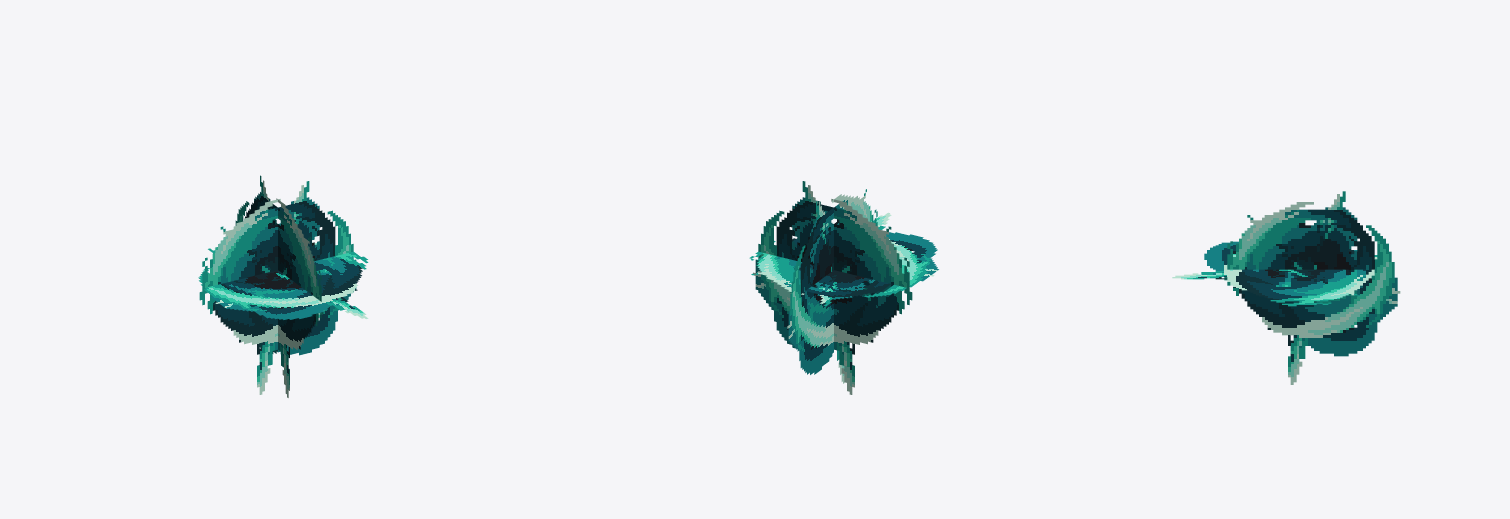
File: vfx_gale_dash_4.gltf
3 views of the same model, side by side, from view 1: azimuth 30°, elevation 25°; view 2: azimuth 150°, elevation 25°; view 3: azimuth 270°, elevation 25° (orthographic). The views are drawn at different scales.
Visible parts, largest first — view 1: cube (×3); view 2: cube (×3); view 3: cube (×2).
Part boxes in pixels (bbox=[...]): cube (×3): bbox=[198, 175, 368, 397]; cube (×3): bbox=[749, 181, 938, 394]; cube (×2): bbox=[1172, 191, 1400, 384].
Bounding box in the file's own units: 2.06 × 2.06 × 2.06.
1 material, 1 textured.
